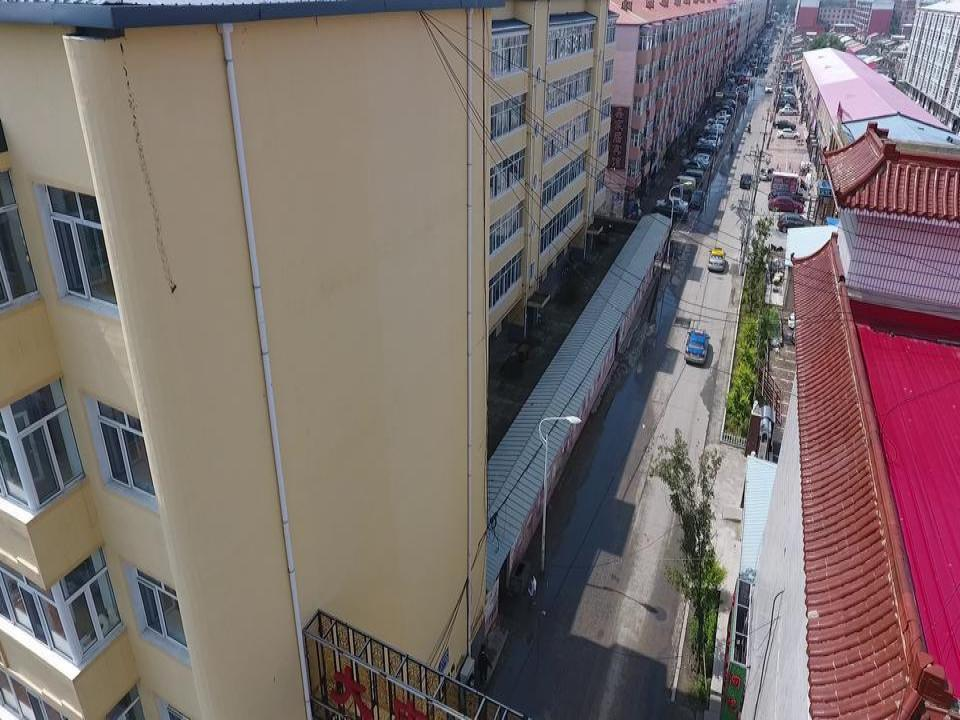car: (787, 308, 835, 332), (791, 324, 835, 345), (684, 329, 710, 364), (777, 212, 817, 233), (651, 204, 688, 223), (768, 189, 805, 207), (655, 196, 689, 215), (768, 196, 804, 213), (707, 247, 727, 272), (683, 156, 709, 171), (692, 141, 718, 156), (684, 153, 711, 167), (690, 190, 705, 210), (682, 160, 706, 172), (759, 167, 778, 181), (776, 128, 800, 139), (772, 119, 796, 129), (778, 104, 798, 116), (740, 172, 753, 189), (723, 90, 740, 99), (764, 84, 774, 93), (736, 86, 746, 94)
truck: (770, 170, 809, 198)
van: (676, 168, 703, 188), (670, 174, 696, 194)
